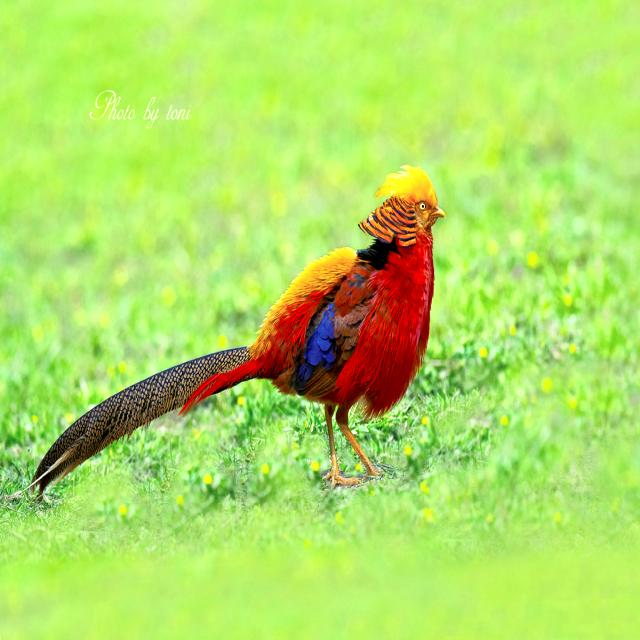Chrysolophus pictus feather: (29, 347, 249, 497)
